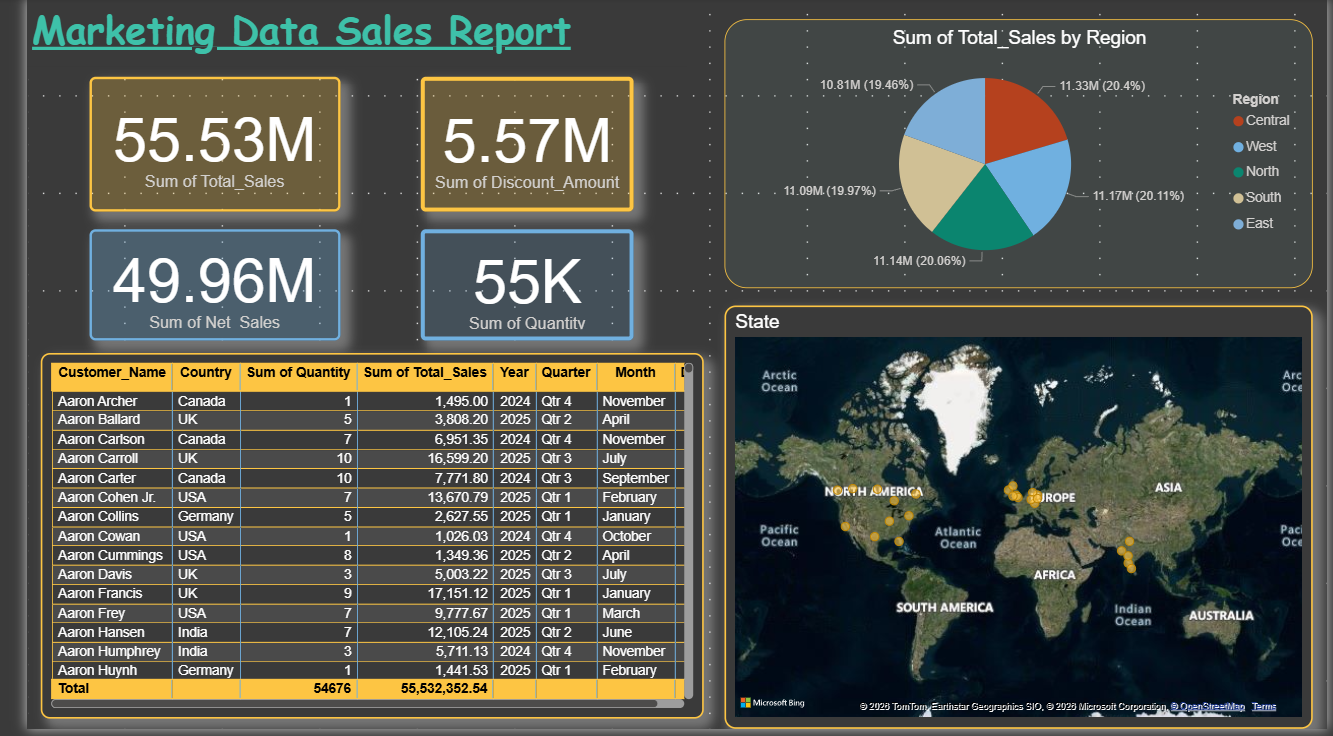

The page's visual inventory and layout, read from the dashboard file:
{"tool":"powerbi","page":{"name":"Page 1","canvas":[1280,720],"ordinal":0},"visuals":[{"type":"map","fields":{"Category":["Marketing_Sales_data.State"]},"box":[686.3,302.9,579.5,417.1],"z":0},{"type":"actionButton","box":[0,0,100,40],"z":1000},{"type":"card","fields":{"Values":["Sum(Marketing_Sales_data.Total_Sales)"]},"box":[61.5,77.6,247.3,133.2],"z":2000},{"type":"card","fields":{"Values":["Sum(Marketing_Sales_data.Discount_Amount)"]},"box":[387.8,77.6,209.3,133.2],"z":3000},{"type":"card","fields":{"Values":["Sum(Marketing_Sales_data.Quantity)"]},"box":[387.8,228.3,209.3,109.8],"z":4000},{"type":"card","fields":{"Values":["Sum(Marketing_Sales_data.Net_Sales)"]},"box":[61.5,228.3,247.3,109.8],"z":5000},{"type":"pieChart","fields":{"Y":["Sum(Marketing_Sales_data.Total_Sales)"],"Category":["Marketing_Sales_data.Region"]},"box":[686.3,20.5,579.5,264.9],"z":6000},{"type":"tableEx","fields":{"Values":["Marketing_Sales_data.Customer_Name","Marketing_Sales_data.Country","Sum(Marketing_Sales_data.Quantity)","Sum(Marketing_Sales_data.Total_Sales)","Marketing_Sales_data.Order_Date.Variation.Date Hierarchy.Year","Marketing_Sales_data.Order_Date.Variation.Date Hierarchy.Quarter","Marketing_Sales_data.Order_Date.Variation.Date Hierarchy.Month","Marketing_Sales_data.Order_Date.Variation.Date Hierarchy.Day"]},"box":[13.2,349.8,652.7,360],"z":7000},{"type":"textbox","box":[0,0,649.8,67.3],"z":8000}]}

Visuals, with their boxes in screenshot pixels (x1, y1, x2, y2), scaled from the page's 1280x720 canvas onto the 1333x736 screenshot:
map - Marketing_Sales_data.State: (715,310,1318,735)
actionButton: (0,0,104,41)
card - Sum(Marketing_Sales_data.Total_Sales): (64,79,322,215)
card - Sum(Marketing_Sales_data.Discount_Amount): (404,79,622,215)
card - Sum(Marketing_Sales_data.Quantity): (404,233,622,346)
card - Sum(Marketing_Sales_data.Net_Sales): (64,233,322,346)
pieChart - Sum(Marketing_Sales_data.Total_Sales) x Marketing_Sales_data.Region: (715,21,1318,292)
tableEx - Marketing_Sales_data.Customer_Name x Marketing_Sales_data.Country: (14,358,693,726)
textbox: (0,0,677,69)
